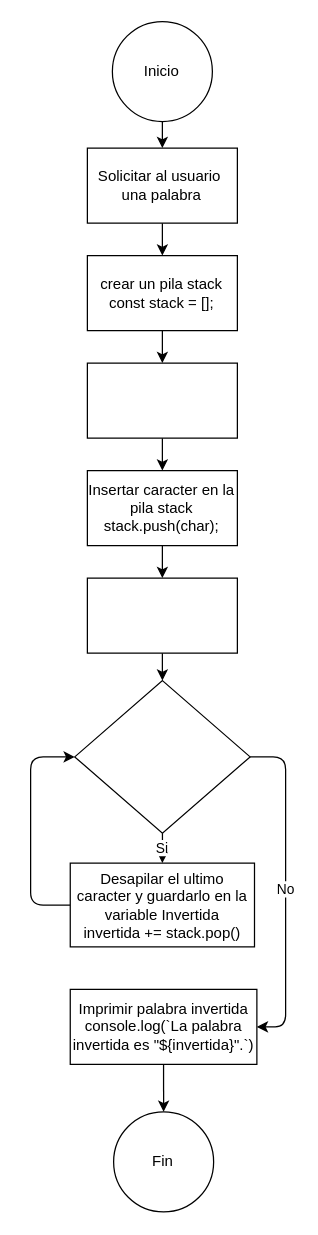
Image size: 318x1235. Some labels were removed from this diagram. Here are the shapes that lost their labels. From the top down, the box of each, then its label:
(86, 362, 237, 438): recorrer cada caracter de de la palabra
(86, 577, 237, 653): crear una variable let invertida = "";
(74, 679, 250, 833): quedan caracteres en la pila Stack? stack.length > 0
